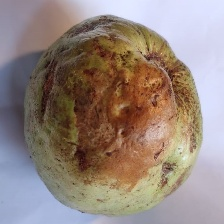guava: (39, 38, 214, 192)
